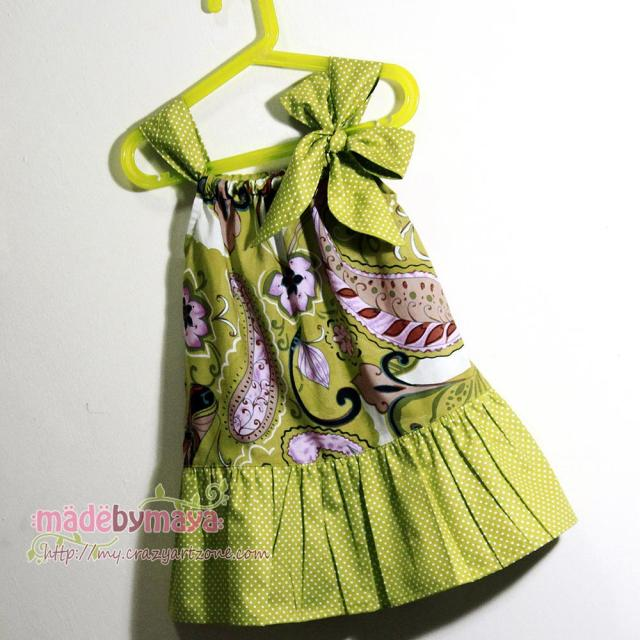Dress: (134, 76, 578, 629)
